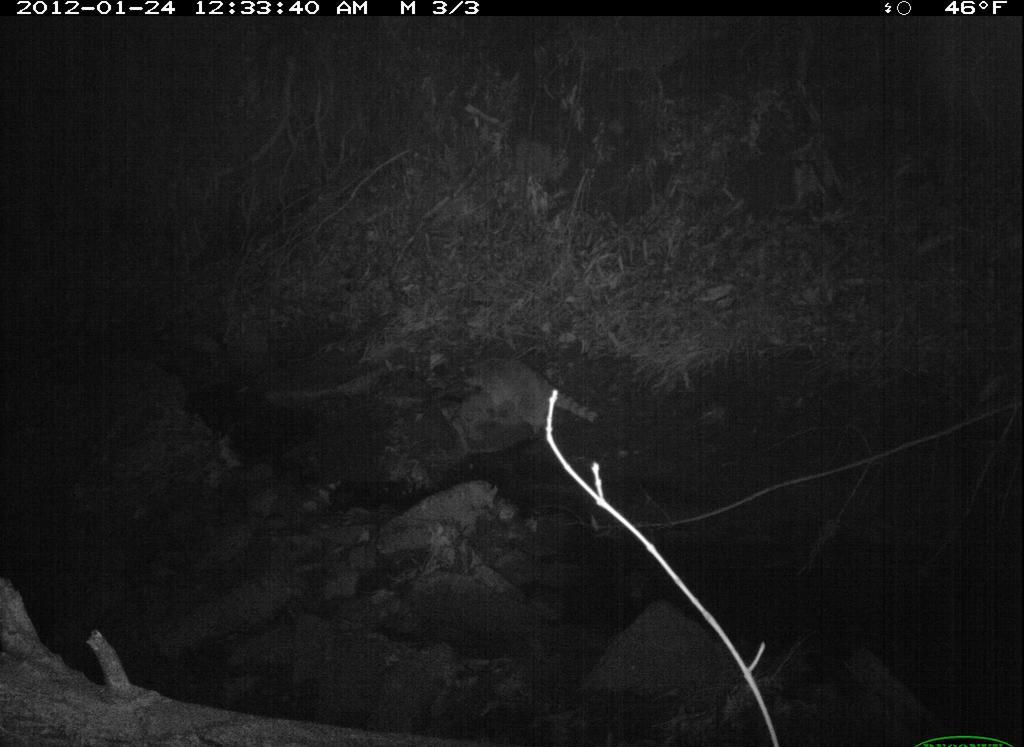raccoon: (451, 347, 607, 442)
